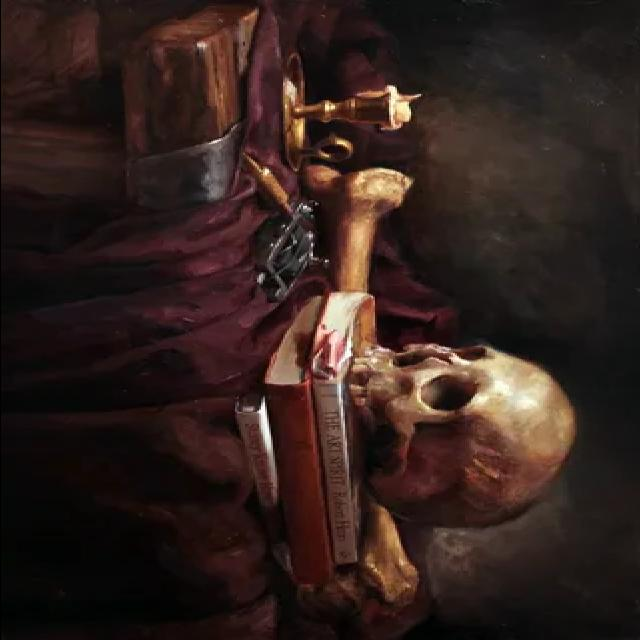skull: (341, 334, 584, 540)
